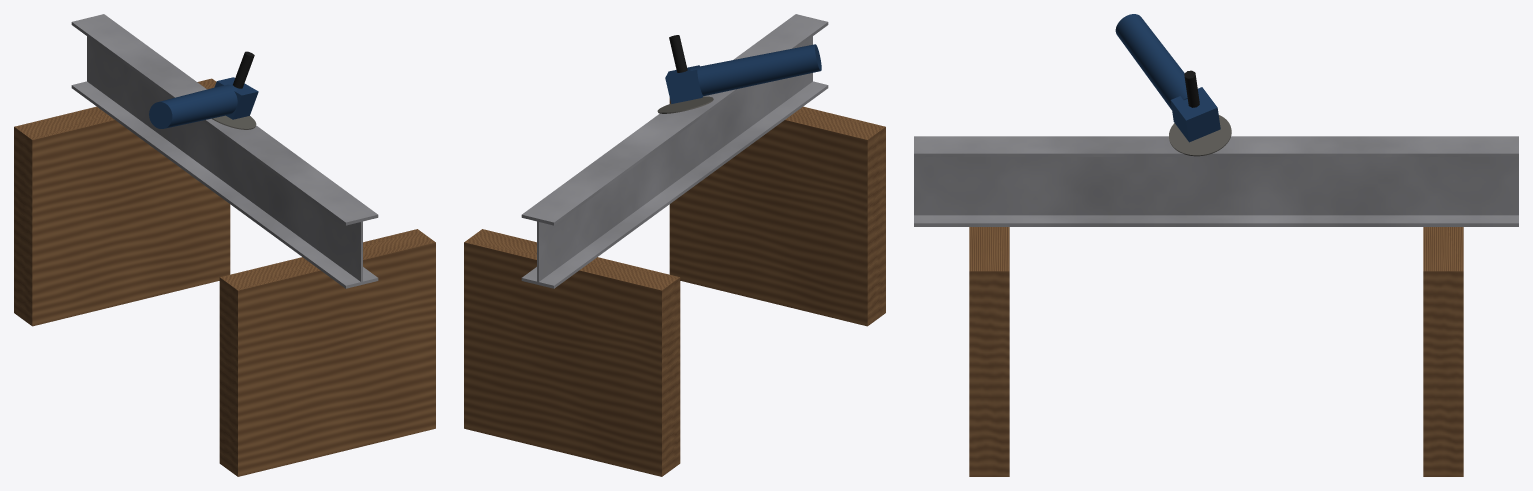
File: grinder_L3.glb
3 views of the same model, side by side, from view 1: azimuth 30°, elevation 25°; view 2: azimuth 150°, elevation 25°; view 3: azimuth 270°, elevation 25° (orthographic). The views are drawn at different scales.
Parts seen in each view (by area): view 1: trestle (×2), beam, motor, head; view 2: trestle (×2), beam, motor, head, disc; view 3: beam, trestle (×2), motor, head, disc.
Part boxes in pixels (x1,y1,x2,y2): trestle (×2): (14, 78, 435, 476); beam: (71, 14, 378, 288); motor: (149, 84, 237, 128); head: (214, 77, 258, 119); trestle (×2): (464, 98, 885, 476); beam: (521, 14, 828, 288); motor: (690, 44, 821, 96); head: (665, 65, 702, 103); disc: (657, 96, 713, 113); beam: (914, 136, 1518, 226); trestle (×2): (969, 227, 1463, 476); motor: (1115, 14, 1187, 109); head: (1170, 87, 1220, 142); disc: (1169, 115, 1231, 156).
Size of the model in its own units: 0.5273 by 0.7829 by 1.2.
5 materials, 2 textured.
